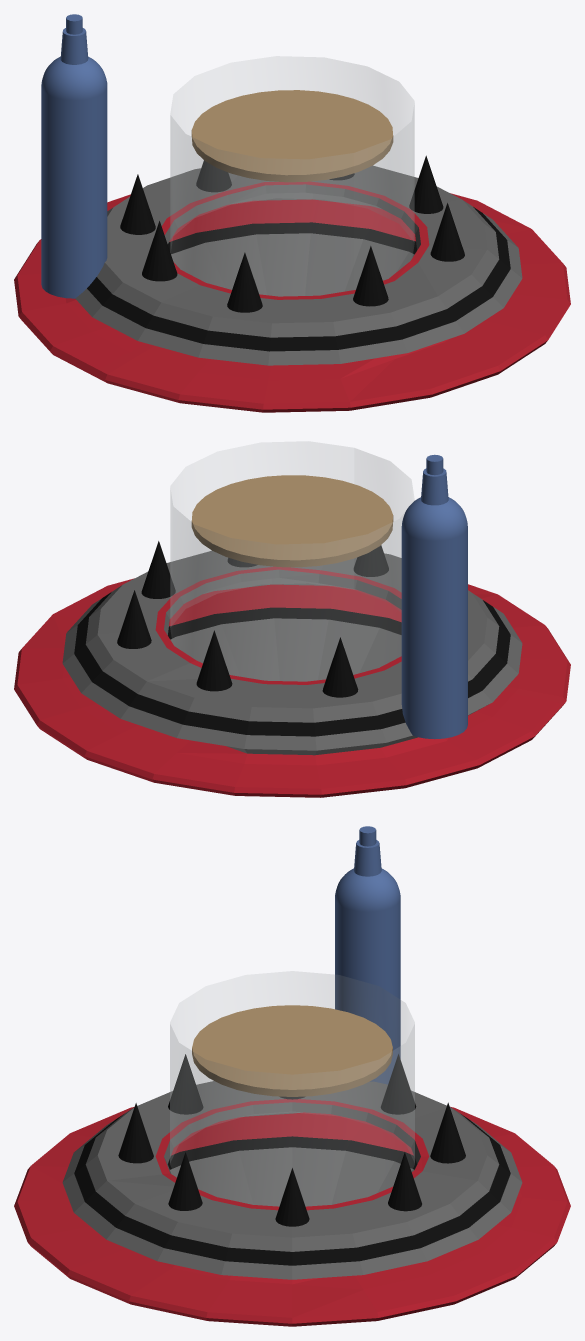
The model's file is deepseek41_t04.glb.
The picture shows the model from 3 angles, top to bottom: view 1: azimuth 30°, elevation 25°; view 2: azimuth 150°, elevation 25°; view 3: azimuth 270°, elevation 25°; orthographic projection.
Visible parts, largest first — view 1: slot_anchor_saucer, slot_dome, slot_tank, slot_disc; view 2: slot_anchor_saucer, slot_dome, slot_tank, slot_disc; view 3: slot_anchor_saucer, slot_dome, slot_disc, slot_tank.
Boxes of the visible parts, x1,y1,x2,y2 form: slot_anchor_saucer: [14, 155, 570, 412]; slot_dome: [170, 56, 414, 295]; slot_tank: [41, 14, 107, 298]; slot_disc: [191, 90, 393, 182]; slot_anchor_saucer: [14, 541, 570, 797]; slot_dome: [170, 441, 414, 680]; slot_tank: [401, 454, 467, 739]; slot_disc: [191, 475, 393, 567]; slot_anchor_saucer: [14, 1054, 570, 1326]; slot_dome: [170, 971, 414, 1205]; slot_disc: [192, 1005, 392, 1096]; slot_tank: [335, 826, 400, 1084].
Bounding box in the file's own units: 2 × 1.48 × 2.
4 materials, 1 textured.
